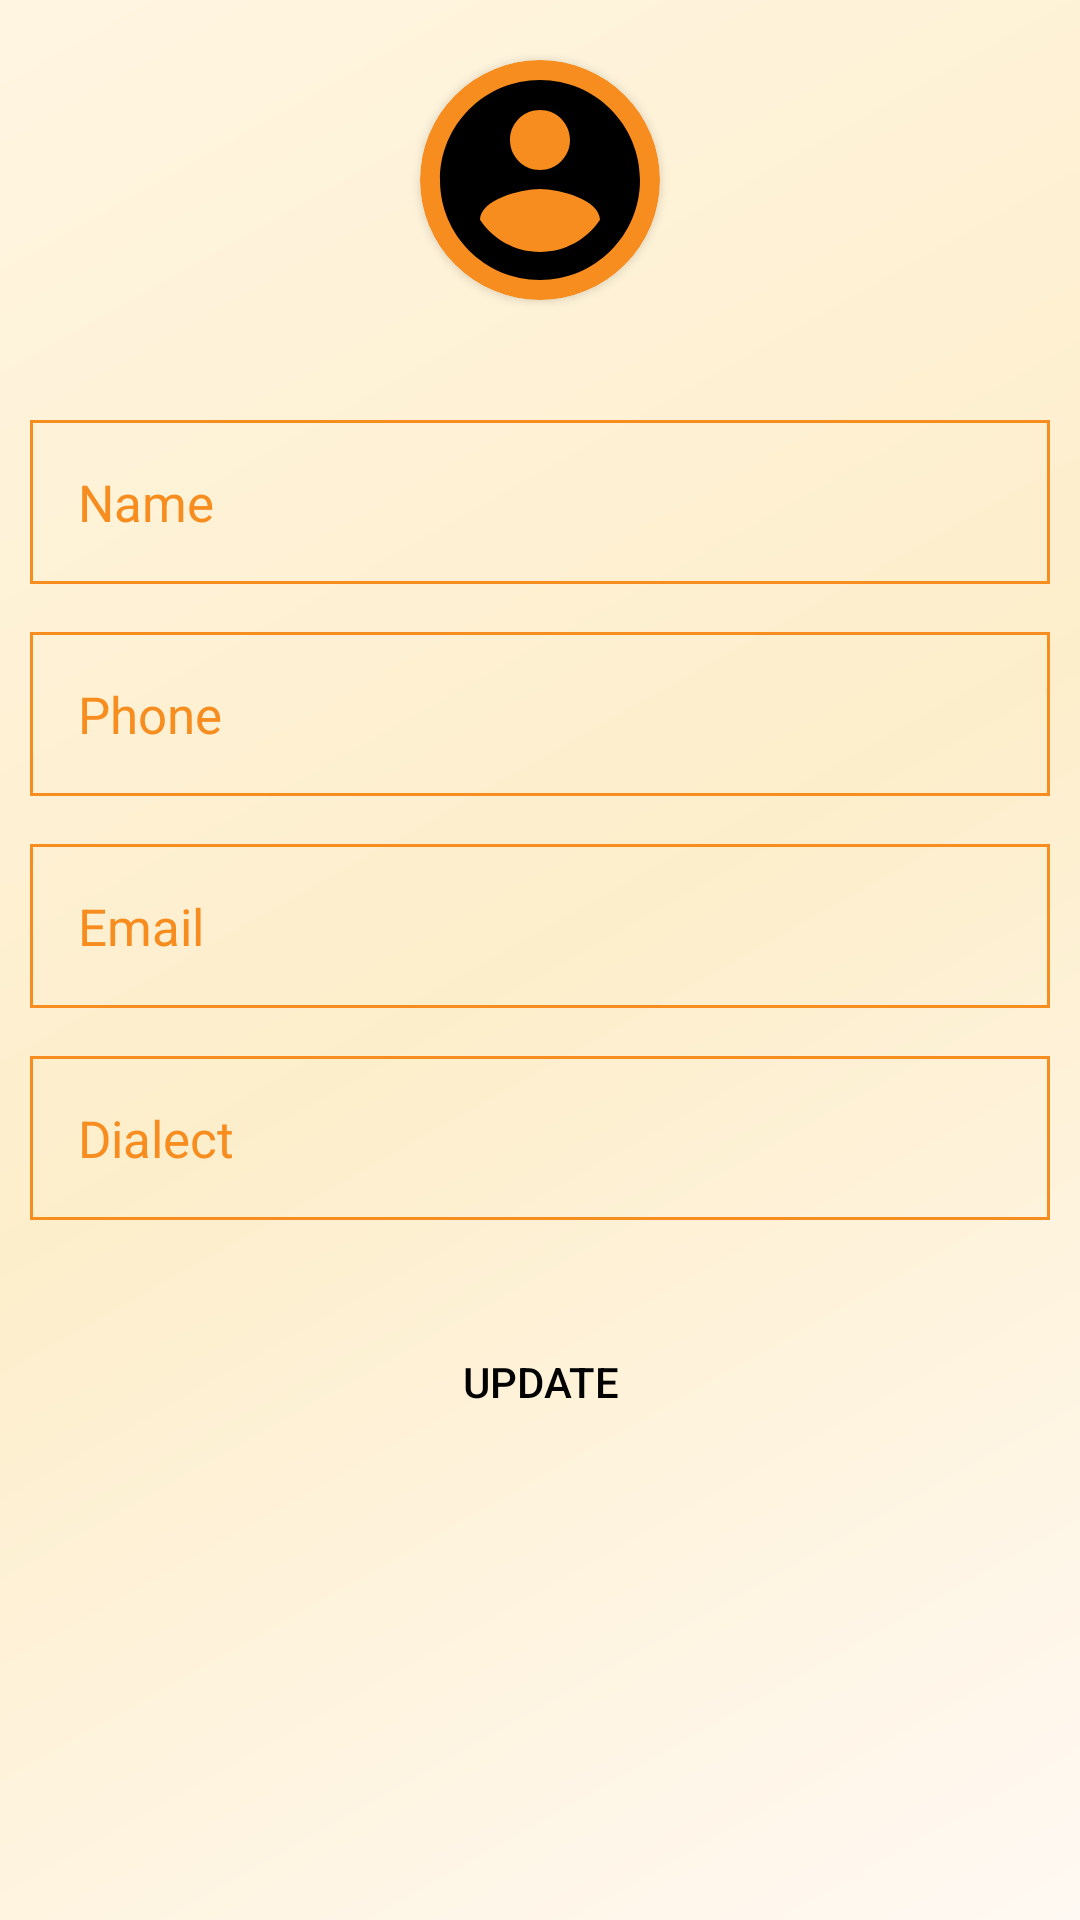

Icons on this 1080x1920 Android screen, each with the point to tap as point (x, y):
Profiles: point (540, 180)
